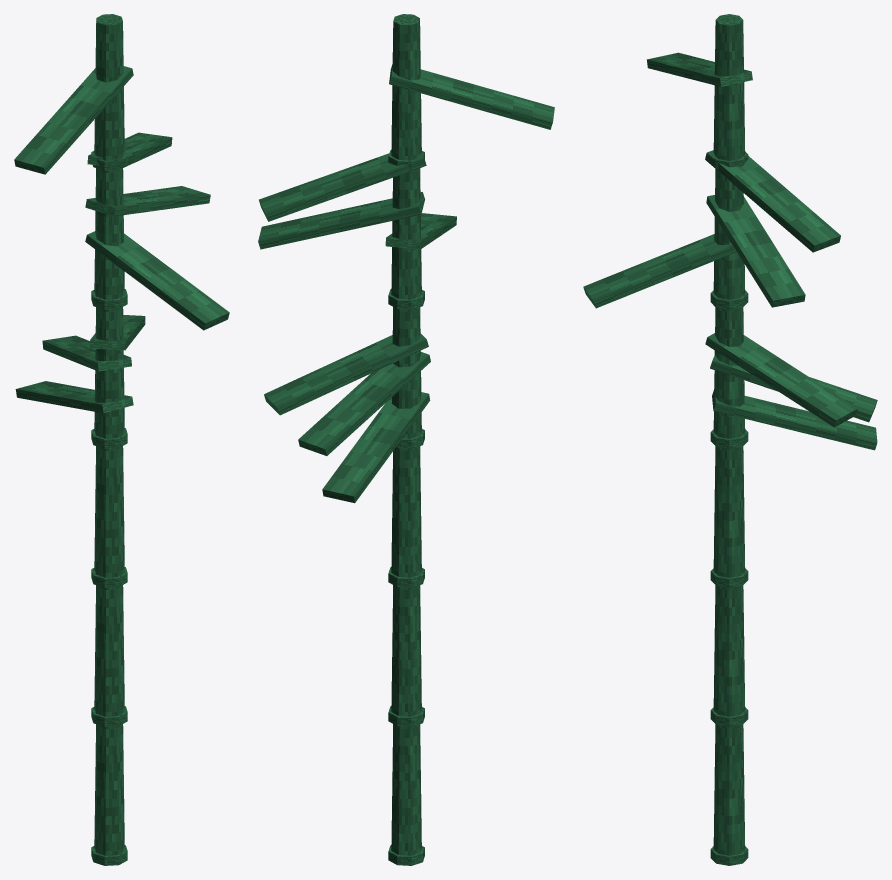
File: bamboo_59.glb
3 renders of one model, left to right at view 1: azimuth 30°, elevation 25°; view 2: azimuth 150°, elevation 25°; view 3: azimuth 270°, elevation 25°, orthographic.
Visible parts, largest first — view 1: Leaf.004, Leaf.002, Stem, Stem.002, Stem.001, Stem.005, Stem.004, Stem.003, Leaf.003, Leaf.006, Leaf.001, Leaf (+6 smaller); view 2: Leaf.006, Leaf.001, Leaf.005, Stem.005, Stem.001, Stem, Stem.002, Leaf, Leaf.004, Leaf.003, Stem.004, Stem.003 (+1 smaller); view 3: Leaf.005, Leaf.003, Leaf, Stem.005, Stem, Stem.001, Stem.002, Leaf.002, Leaf.006, Stem.003, Stem.004, Leaf.004 (+1 smaller).
Boxes of the visible parts, x1,y1,x2,y2 form: Leaf.004: (14,66,133,174); Leaf.002: (85,231,229,330); Stem: (94,724,124,855); Stem.002: (94,446,124,577); Stem.001: (94,585,124,716); Stem.005: (94,14,124,160); Stem.004: (94,168,124,299); Stem.003: (94,307,124,438); Leaf.003: (85,186,210,216); Leaf.006: (15,381,133,413); Leaf.001: (42,335,131,371); Leaf: (87,132,172,168); Leaf.006: (322,392,430,503); Leaf.001: (298,352,430,455); Leaf.005: (264,333,428,415); Stem.005: (391,14,421,160); Stem.001: (391,585,421,716); Stem: (391,724,421,855); Stem.002: (391,446,421,577); Leaf: (259,152,426,221); Leaf.004: (389,64,554,129); Leaf.003: (258,192,424,249); Stem.004: (391,168,421,299); Stem.003: (391,307,421,438); Leaf.005: (705,333,857,427); Leaf.003: (706,195,805,307); Leaf: (705,150,840,252); Stem.005: (713,14,745,160); Stem: (713,724,745,855); Stem.001: (713,585,745,716); Stem.002: (713,446,745,577); Leaf.002: (583,234,736,308); Leaf.006: (712,389,877,450); Stem.003: (713,307,745,438); Stem.004: (713,169,745,299); Leaf.004: (646,52,752,86).
Bounding box in the file's own units: 1.42 × 4.67 × 1.49.
1 material, 1 textured.
